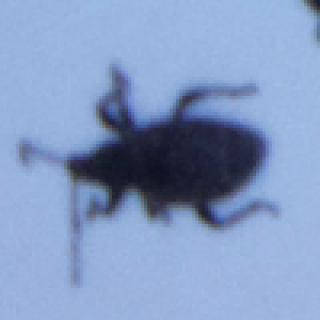bvw: (15, 58, 282, 288)
